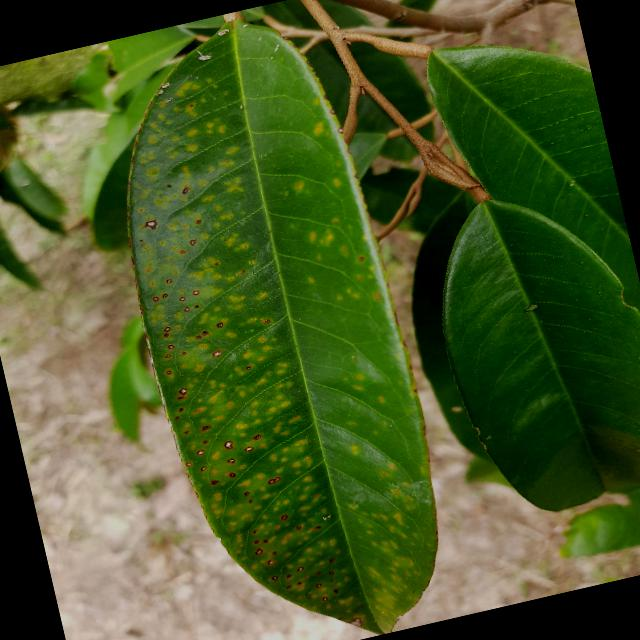Leaf Spot: (71, 0, 476, 639)
